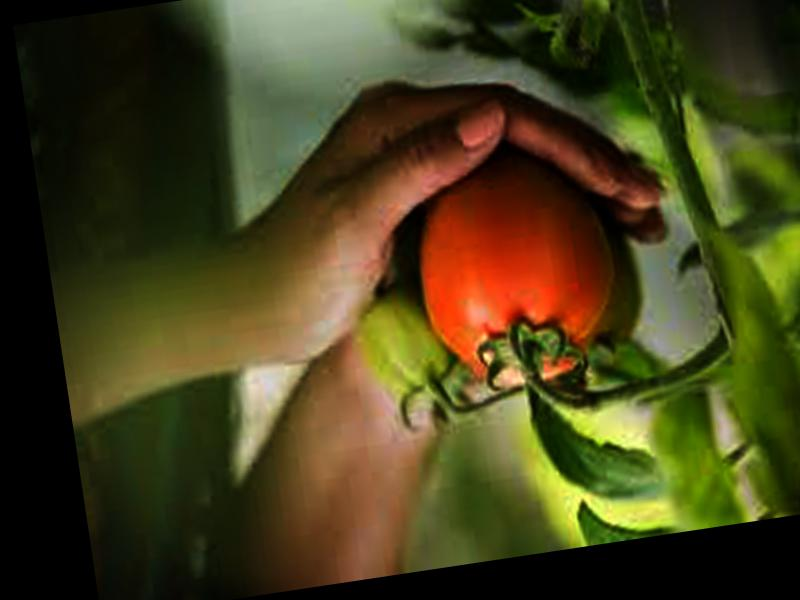Tomato: (406, 150, 625, 395)
